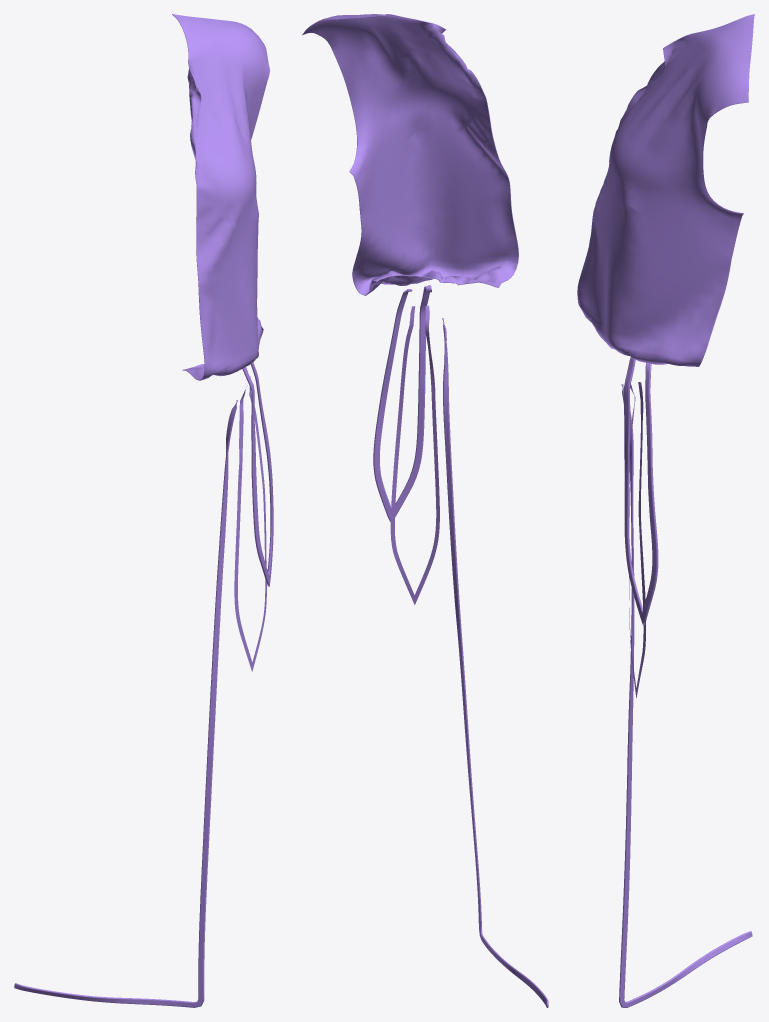
3 renders of one model, left to right at view 1: azimuth 30°, elevation 25°; view 2: azimuth 150°, elevation 25°; view 3: azimuth 270°, elevation 25°, orthographic. The views are drawn at different scales.
Parts seen in each view (by area): view 1: Object_9; view 2: Object_9; view 3: Object_9.
Boxes of the visible parts, left/top/right/bottom form: Object_9: left=14, top=14, right=273, bottom=1007; Object_9: left=302, top=14, right=548, bottom=1007; Object_9: left=577, top=14, right=754, bottom=1007.
Bounding box in the file's own units: 0.337 × 1.25 × 0.1982.
